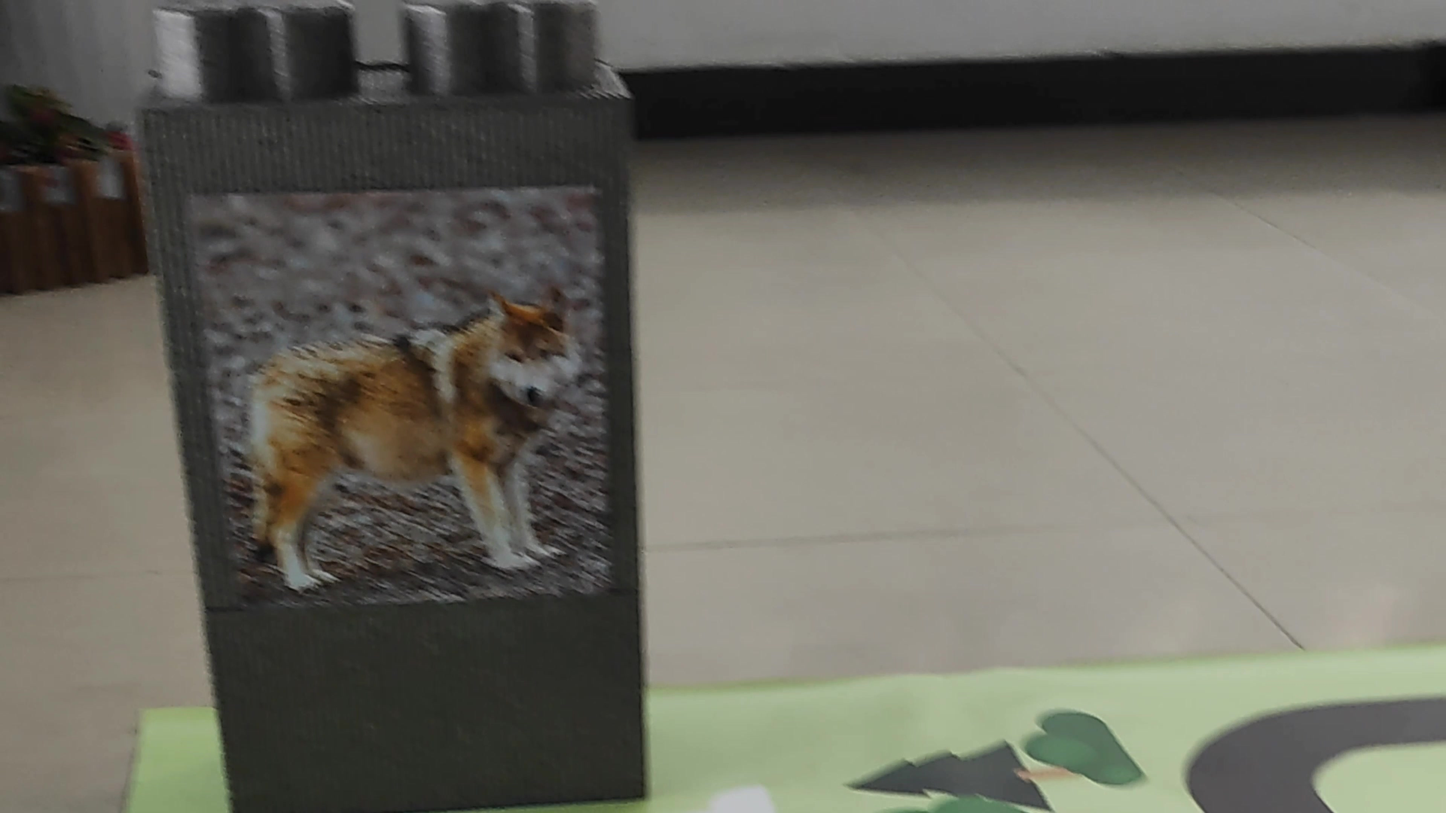wolf: (219, 266, 615, 601)
